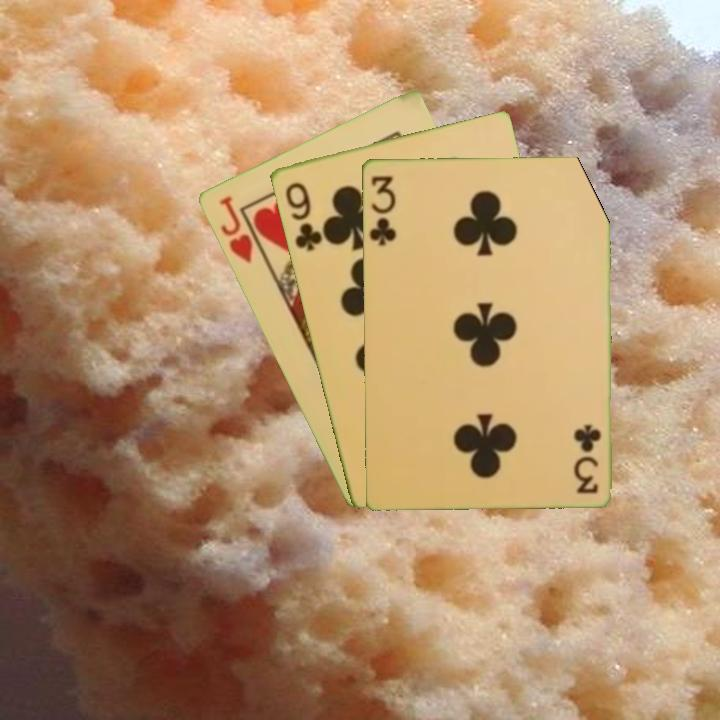3c: (365, 172, 398, 248), (573, 420, 604, 496)
9c: (281, 178, 325, 254)
Jh: (215, 191, 256, 266)
